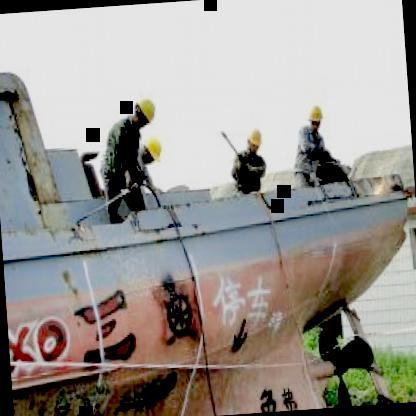helmet: (136, 130, 167, 170), (132, 92, 160, 130), (304, 103, 326, 135), (244, 128, 263, 154)
